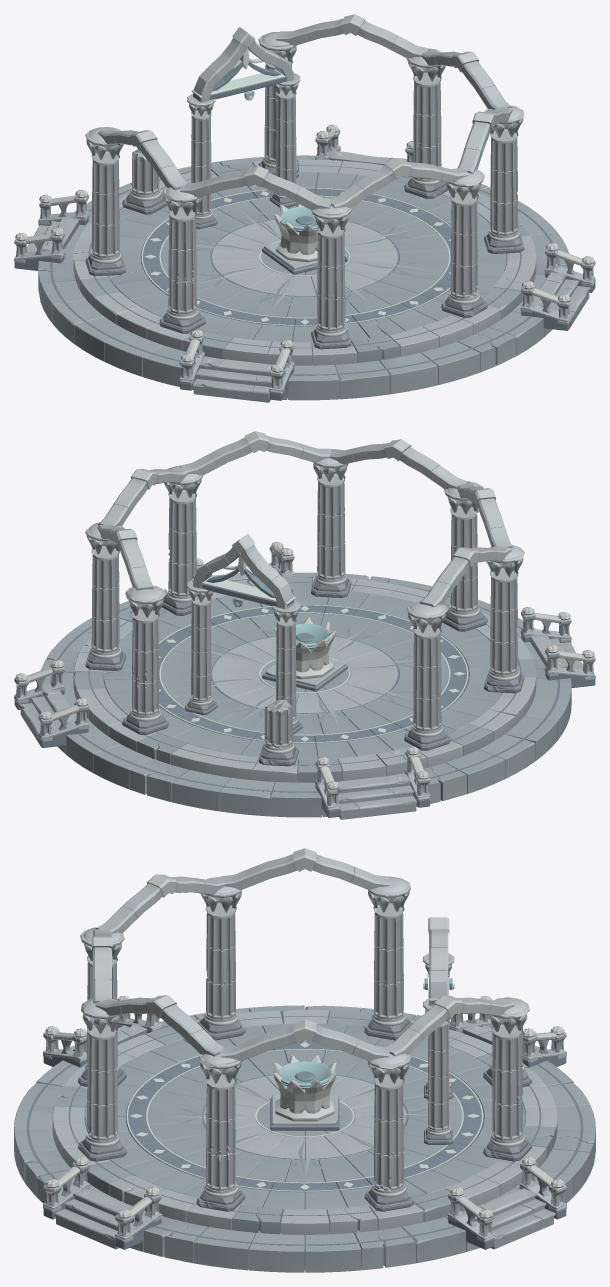
Rendered from bd_shrine_frost.glb.
3 renders of one model, top to bottom at view 1: azimuth 30°, elevation 25°; view 2: azimuth 150°, elevation 25°; view 3: azimuth 270°, elevation 25°, orthographic. The views are drawn at different scales.
Parts seen in each view (by area): view 1: BD_shrine_frost__body; view 2: BD_shrine_frost__body; view 3: BD_shrine_frost__body.
Part boxes in pixels (x1,y1,x2,y2): BD_shrine_frost__body: [14, 14, 595, 402]; BD_shrine_frost__body: [14, 431, 595, 819]; BD_shrine_frost__body: [14, 848, 595, 1272].
Size of the model in its own units: 21.76 by 10.89 by 21.76.
